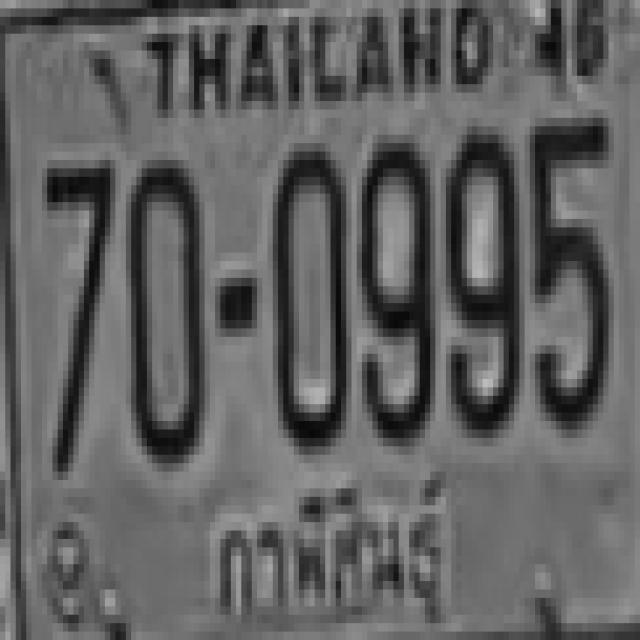0: (123, 152, 202, 454), (270, 139, 344, 442)
5: (527, 110, 606, 421)
7: (42, 156, 110, 467), (42, 156, 110, 392)
9: (441, 126, 514, 430), (357, 135, 430, 438)
Kalasin: (204, 475, 464, 640)
